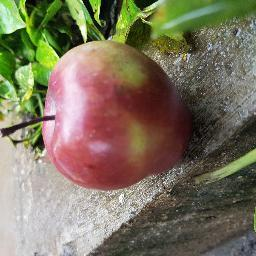Good_apple: (44, 41, 193, 188)
